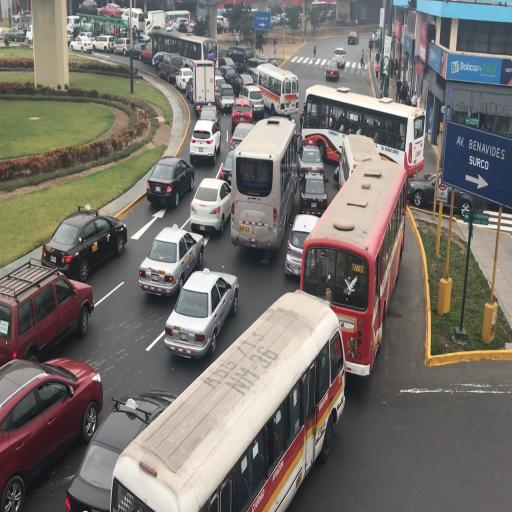auto: (1, 356, 102, 510), (64, 387, 179, 509), (1, 262, 94, 374), (164, 266, 239, 356), (42, 203, 127, 280), (138, 222, 204, 295), (408, 172, 482, 219), (146, 155, 195, 208), (189, 177, 231, 235), (189, 116, 222, 165), (298, 169, 328, 216), (297, 143, 325, 184), (237, 80, 264, 122), (157, 51, 184, 83), (230, 121, 254, 155), (197, 104, 221, 137), (225, 45, 254, 72), (231, 97, 253, 131), (213, 80, 234, 113), (220, 148, 236, 186), (244, 59, 265, 82), (217, 61, 237, 85), (176, 66, 194, 92), (69, 35, 94, 53), (228, 74, 246, 98), (131, 40, 151, 61), (94, 34, 115, 53), (253, 54, 276, 70), (112, 37, 132, 55), (203, 39, 218, 63), (4, 26, 26, 42), (86, 18, 104, 36), (78, 15, 95, 34), (325, 59, 339, 82), (98, 3, 121, 17), (186, 15, 204, 32), (13, 10, 32, 26), (236, 73, 254, 89), (332, 48, 346, 68), (78, 0, 98, 14), (16, 18, 32, 35), (185, 77, 195, 103), (214, 73, 225, 94), (152, 51, 165, 68), (347, 31, 359, 44), (120, 9, 130, 24), (116, 26, 128, 38), (165, 21, 178, 31), (66, 23, 74, 39), (222, 19, 231, 33), (186, 22, 196, 34), (274, 13, 284, 25), (318, 12, 327, 23), (327, 9, 334, 19)
bus: (107, 296, 328, 506), (301, 139, 404, 369), (306, 85, 419, 179), (230, 115, 296, 253), (252, 62, 298, 119), (122, 7, 148, 34), (145, 9, 166, 31), (170, 10, 190, 26)
